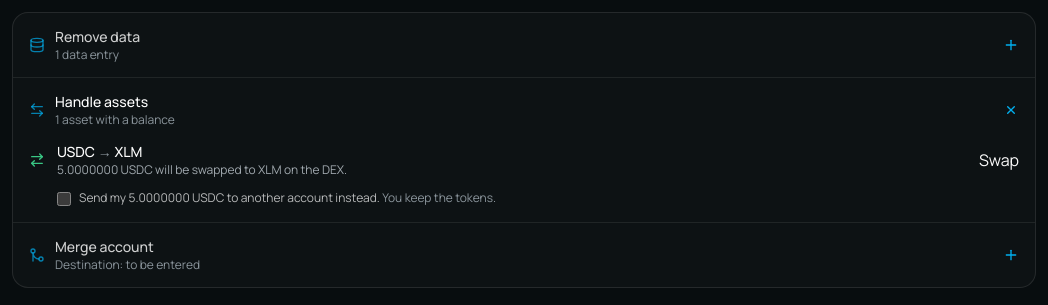
Scenario: plan accordion › a closed panel's controls sit inside an inert subtree
Expected: the checkbox is shown, x1=57 y1=192 x2=71 y2=206
Step 1. Click the button "Remove data 1 data entry" → click(98, 36), box x1=13 y1=13 x2=1035 y2=77
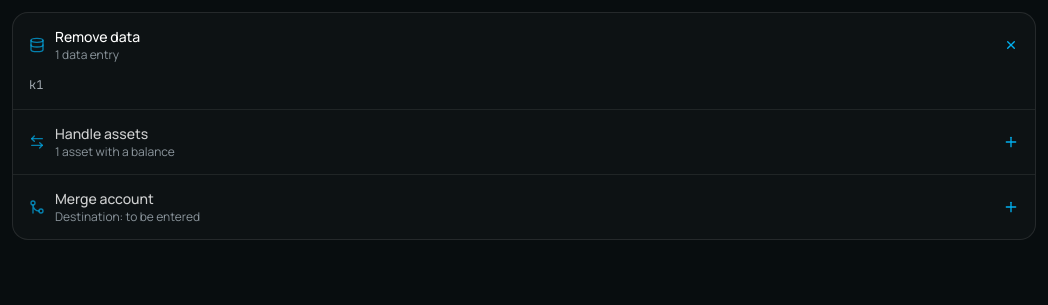
Now the button "Handle assets 1 asset with a balance" is collapsed, box x1=13 y1=110 x2=1035 y2=174
